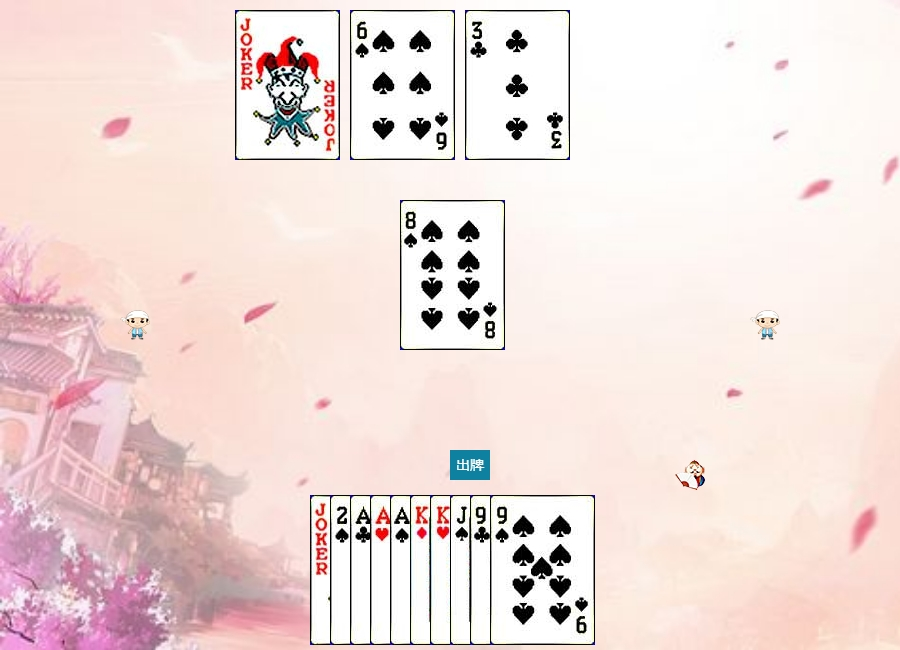11~4: (450, 495, 555, 645)
13~1: (410, 495, 515, 645)
13~3: (430, 495, 535, 645)
14~2: (350, 495, 455, 645)
14~3: (370, 495, 475, 645)
14~4: (390, 495, 495, 645)
15~4: (330, 495, 435, 645)
18~4: (235, 10, 340, 160), (310, 495, 415, 645)
3~2: (465, 10, 570, 160)
6~4: (350, 10, 455, 160)
8~4: (400, 200, 505, 350)
9~2: (470, 495, 575, 645)
9~4: (490, 495, 595, 645)
